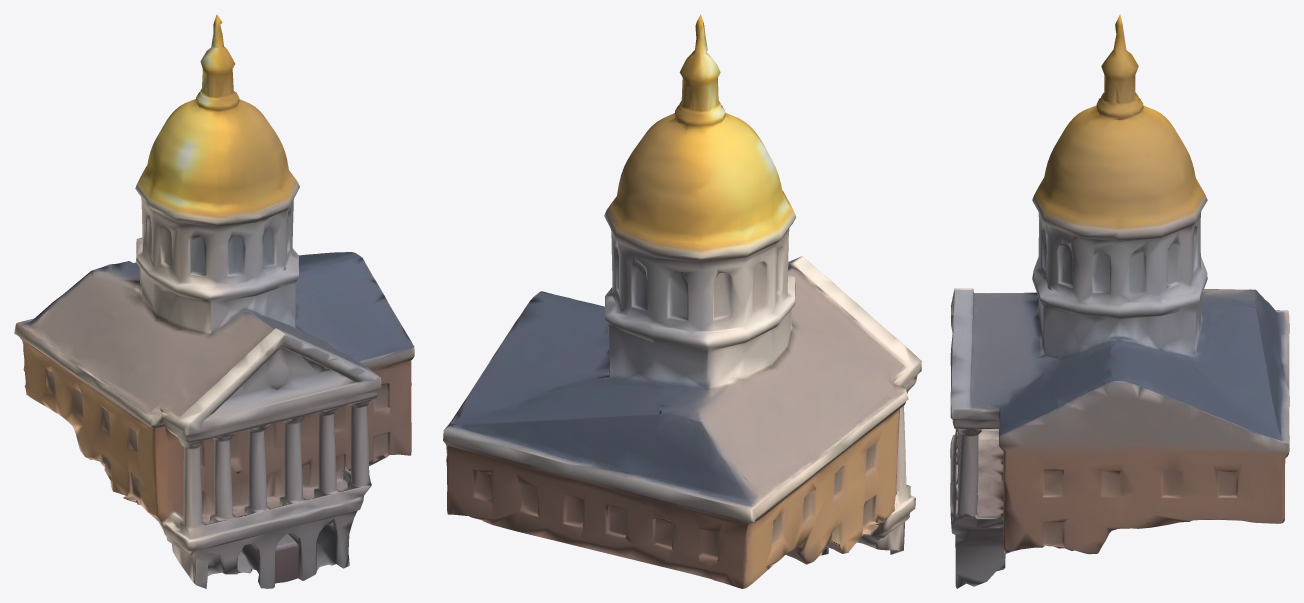
The model's file is statehouse.glb.
3 renders of one model, left to right at view 1: azimuth 30°, elevation 25°; view 2: azimuth 150°, elevation 25°; view 3: azimuth 270°, elevation 25°, orthographic. The views are drawn at different scales.
Parts seen in each view (by area): view 1: tripo_node_01a21ca0-c99e-7285-953a-5e37ed7c37d9; view 2: tripo_node_01a21ca0-c99e-7285-953a-5e37ed7c37d9; view 3: tripo_node_01a21ca0-c99e-7285-953a-5e37ed7c37d9.
Part boxes in pixels (left/top/right/bottom): tripo_node_01a21ca0-c99e-7285-953a-5e37ed7c37d9: left=14, top=14, right=414, bottom=588; tripo_node_01a21ca0-c99e-7285-953a-5e37ed7c37d9: left=443, top=14, right=921, bottom=588; tripo_node_01a21ca0-c99e-7285-953a-5e37ed7c37d9: left=950, top=14, right=1289, bottom=588.
Bounding box in the file's own units: 15 × 27.68 × 15.49.
Materials: 1 (1 with a texture image).
